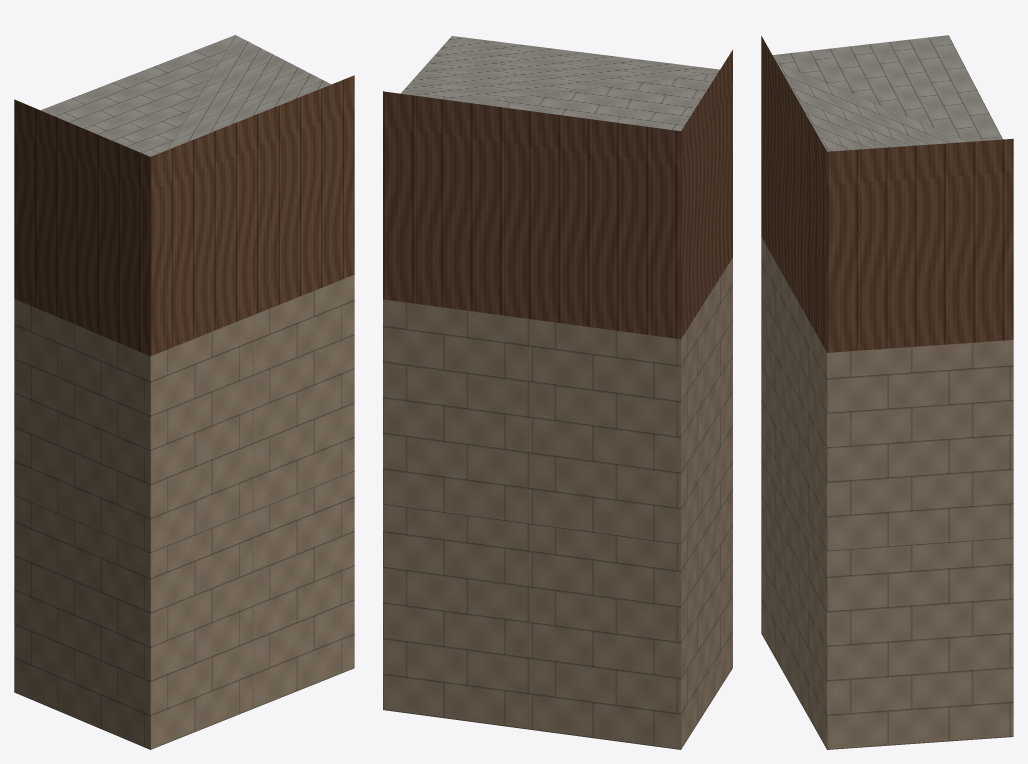
File: bld_c22_44_374.gltf
3 renders of one model, left to right at view 1: azimuth 30°, elevation 25°; view 2: azimuth 150°, elevation 25°; view 3: azimuth 270°, elevation 25°, orthographic. The views are drawn at different scales.
Parts seen in each view (by area): view 1: bld_c22_44_374; view 2: bld_c22_44_374; view 3: bld_c22_44_374.
Part boxes in pixels (x1,y1,x2,y2): bld_c22_44_374: (14,35,354,749); bld_c22_44_374: (383,36,732,749); bld_c22_44_374: (761,35,1013,749).
Bounding box in the file's own units: 3.35 × 6.78 × 2.59.
Materials: 4 (4 with a texture image).
